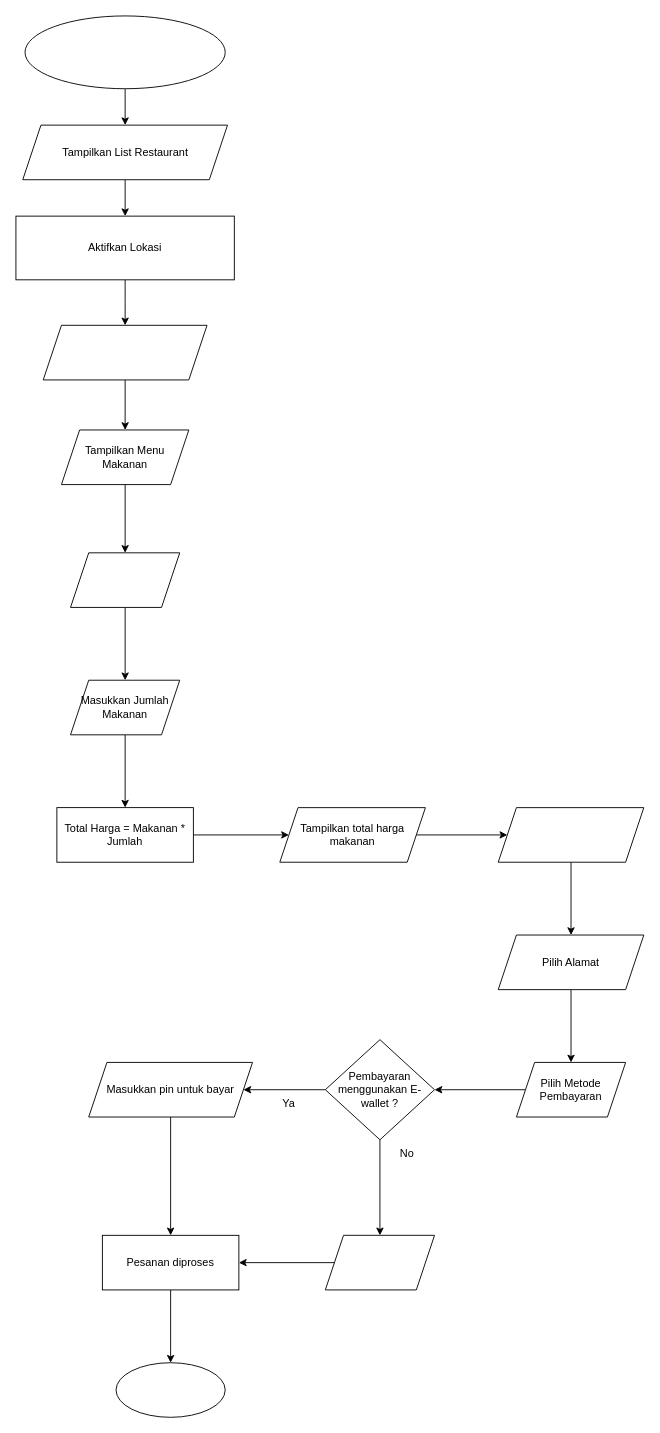
Some shapes in this 660 by 1433 pixel diagram are drawn without their labels. The shapes that lost their labels are listed below. From the top down, each one's centre as x and y in pixels, then its label:
(124,52): Mulai
(124,352): Pilih Restaurant
(125,579): Pilih Makanan
(570,834): Pilih Checkout
(379,1262): Pilih "Pesan Makanan"
(170,1389): End
